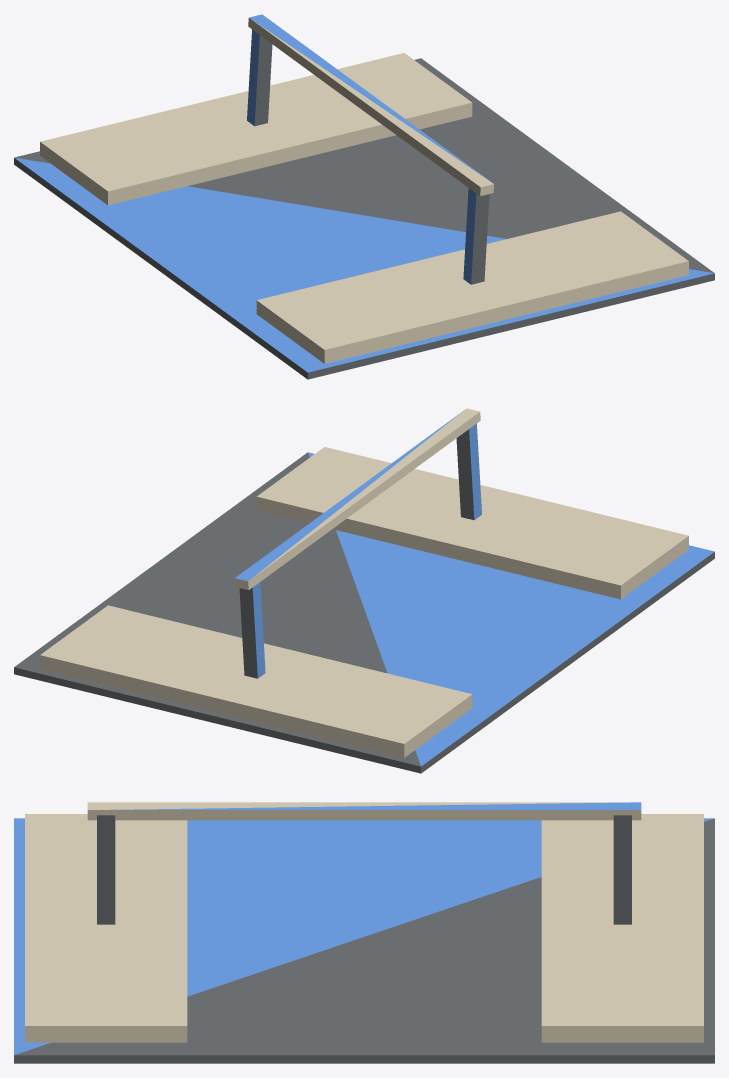
Rendered from meridian_shipyard_heavily_damaged.glb.
3 views of the same model, one above another, from view 1: azimuth 30°, elevation 25°; view 2: azimuth 150°, elevation 25°; view 3: azimuth 270°, elevation 25° (orthographic). The views are drawn at different scales.
Visible parts, largest first — view 1: hull, crane; view 2: hull, crane; view 3: hull, crane.
Boxes of the visible parts, <box> form: hull: <box>14,53,714,379</box>; crane: <box>247,14,494,284</box>; hull: <box>14,447,714,773</box>; crane: <box>234,408,481,678</box>; hull: <box>14,814,714,1063</box>; crane: <box>87,802,641,924</box>.
Bounding box in the file's own units: 15.2 × 4.28 × 19.
